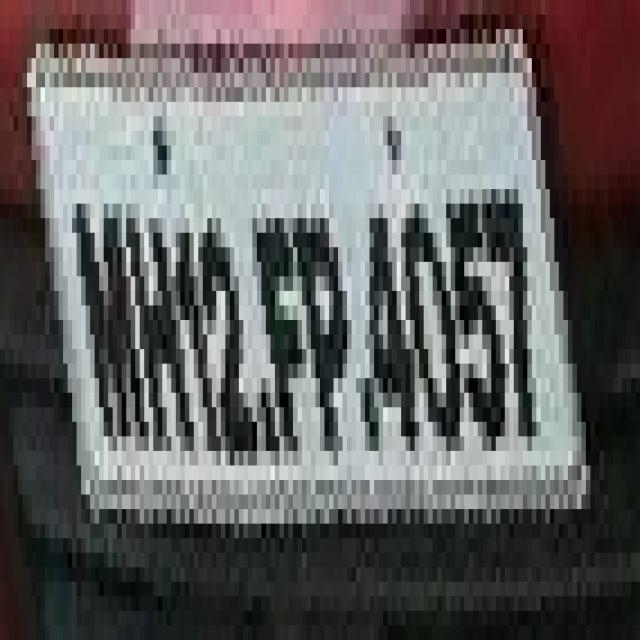license_plate: (9, 58, 595, 553)
